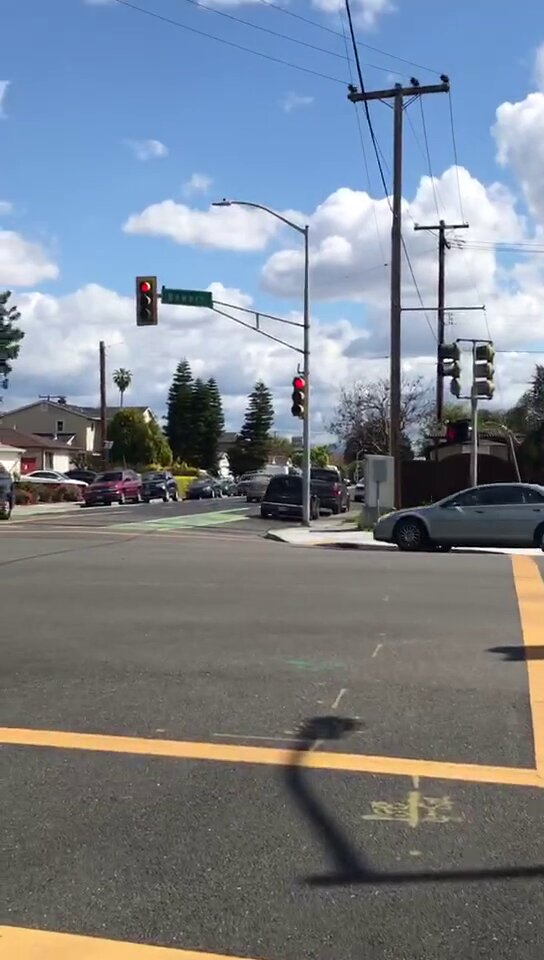red_light: (139, 278, 158, 324), (293, 378, 306, 415)
